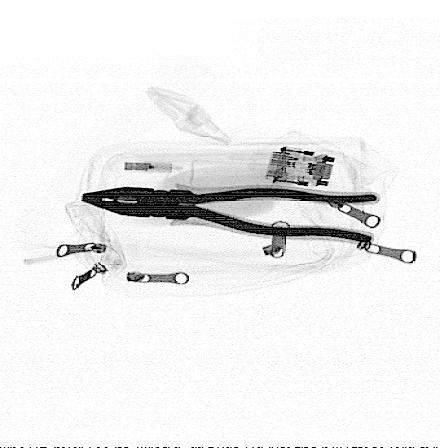Pliers: (81, 182, 382, 247)
